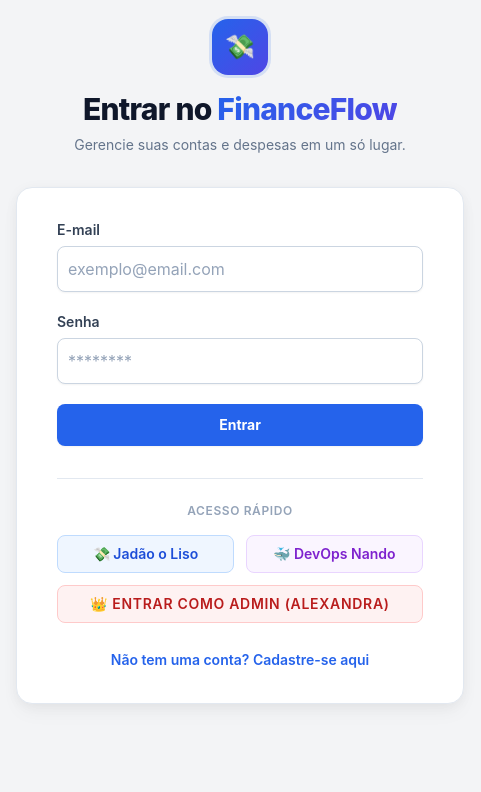
Test: <Login /> (componente isolado) › exibe mensagem de erro quando a autenticação falha
In the field labelled "E-mail": (240, 269) [57,246,423,292], type "errado@teste.com"
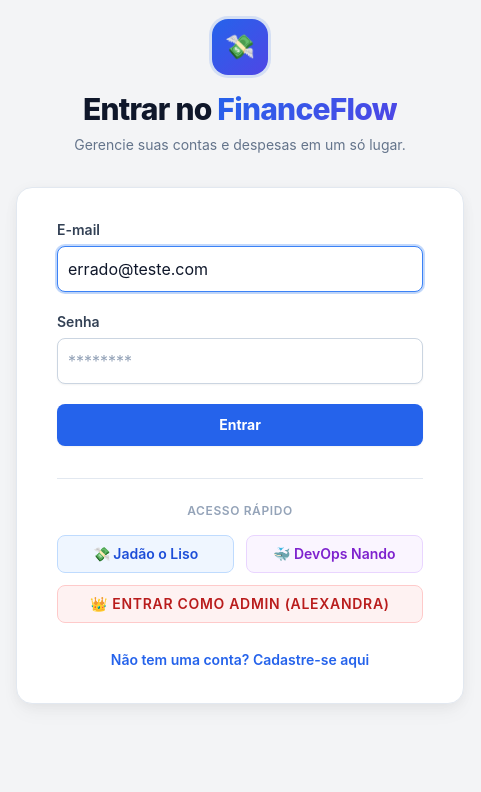
In the password field labelled "Senha": (240, 361) [57,338,423,384], type "senha-errada"
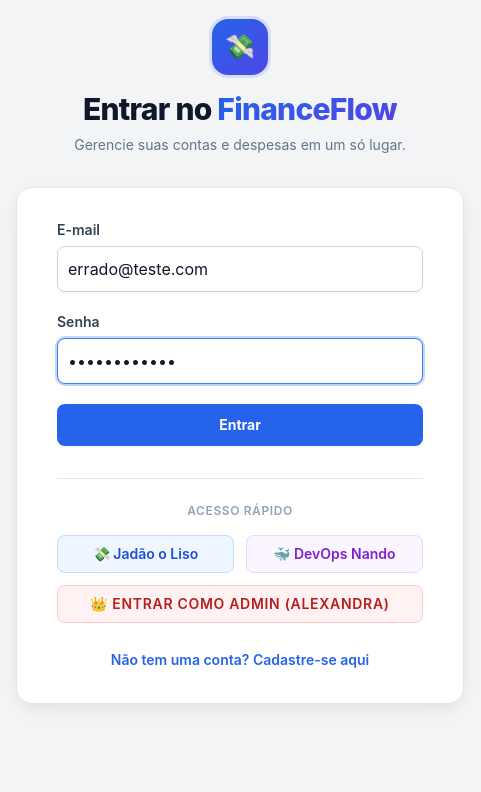
Click the button "Entrar": click(240, 425) [57,404,423,446]
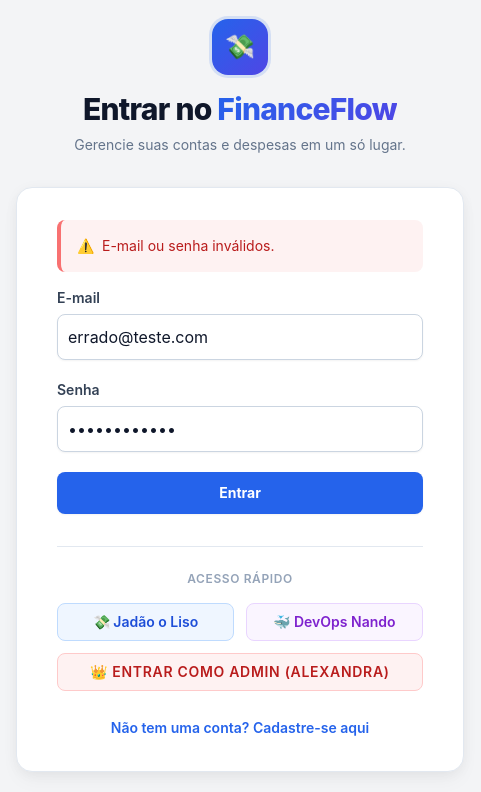
Expected: the text "E-mail ou senha inválidos." is shown, [102,236,274,256]
